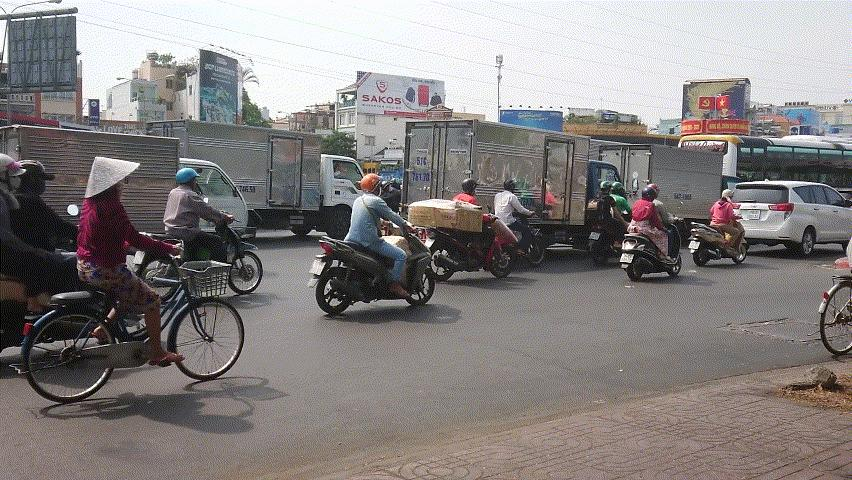bicyclist: (11, 155, 245, 405)
driver: (306, 172, 436, 317), (133, 166, 264, 303), (424, 178, 519, 282), (619, 182, 684, 281), (688, 188, 750, 266), (493, 177, 546, 268), (585, 180, 632, 265)
helmet: (16, 159, 56, 196), (0, 152, 26, 196), (175, 167, 202, 191), (360, 173, 385, 197), (461, 178, 480, 197), (641, 186, 656, 202), (503, 178, 518, 194), (599, 180, 613, 195), (722, 189, 734, 203), (612, 182, 624, 196)
no-helmet: (83, 156, 140, 199)
